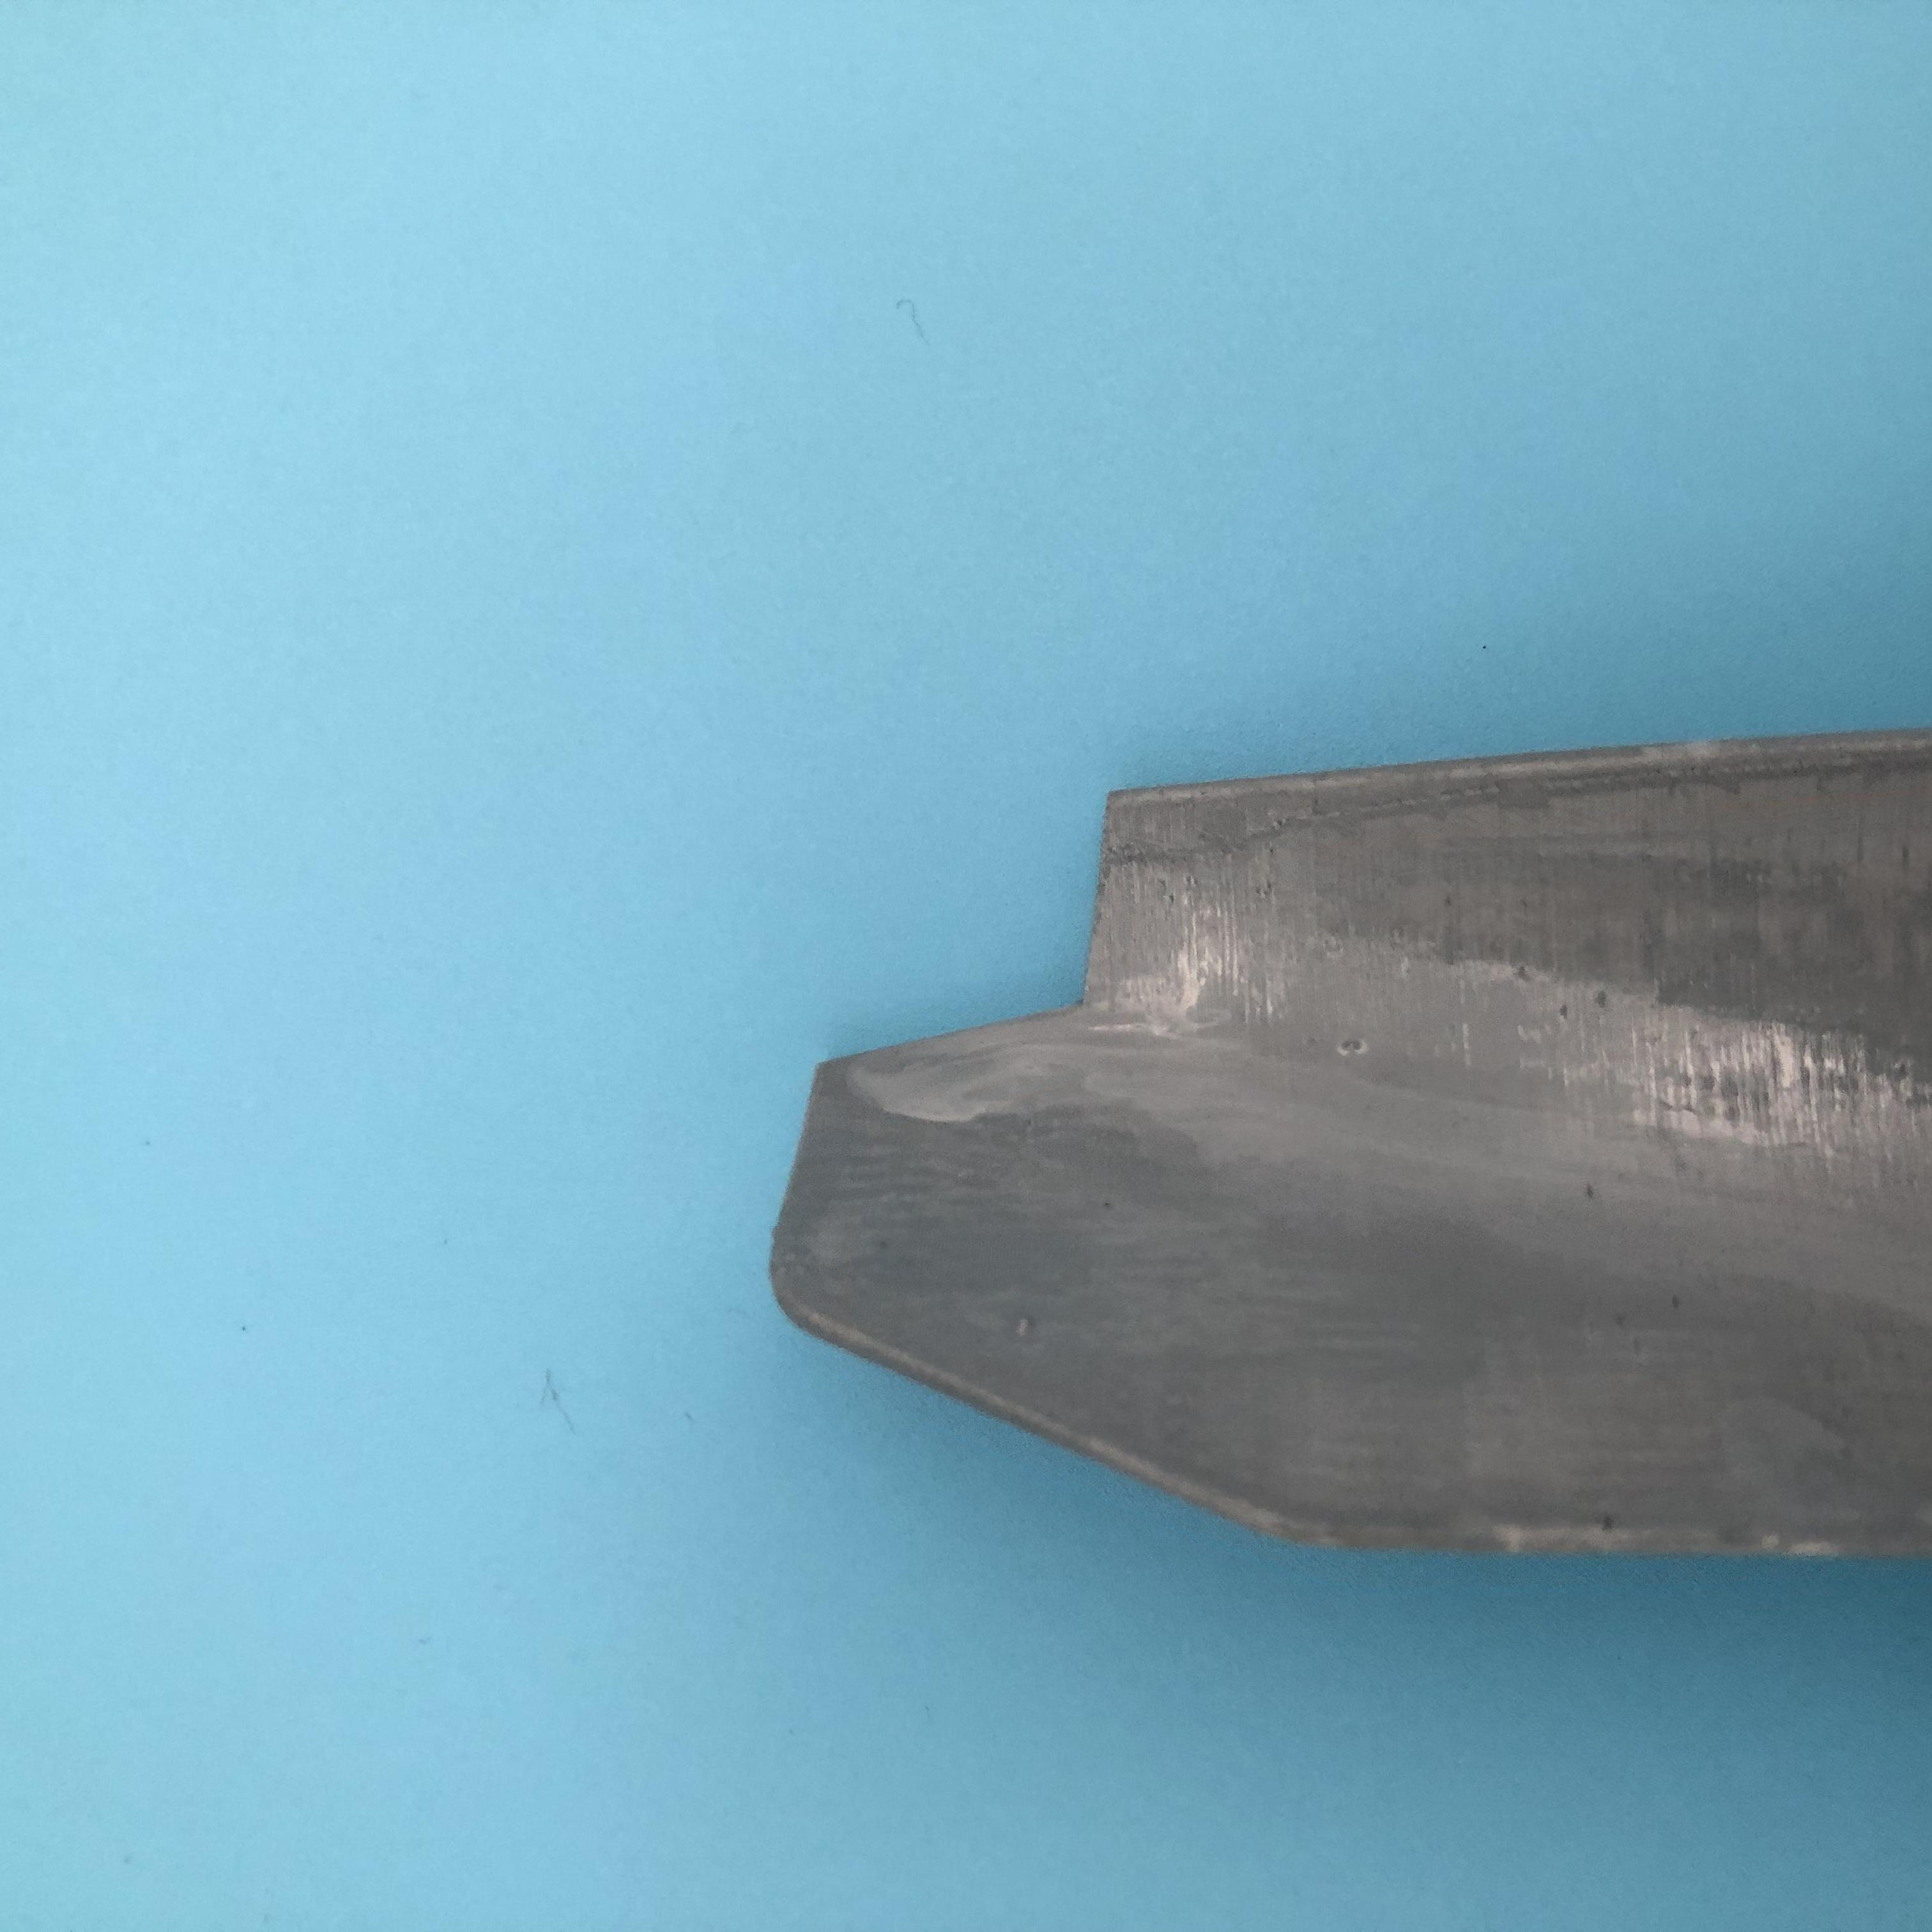fracture: (816, 777, 1175, 1129)
